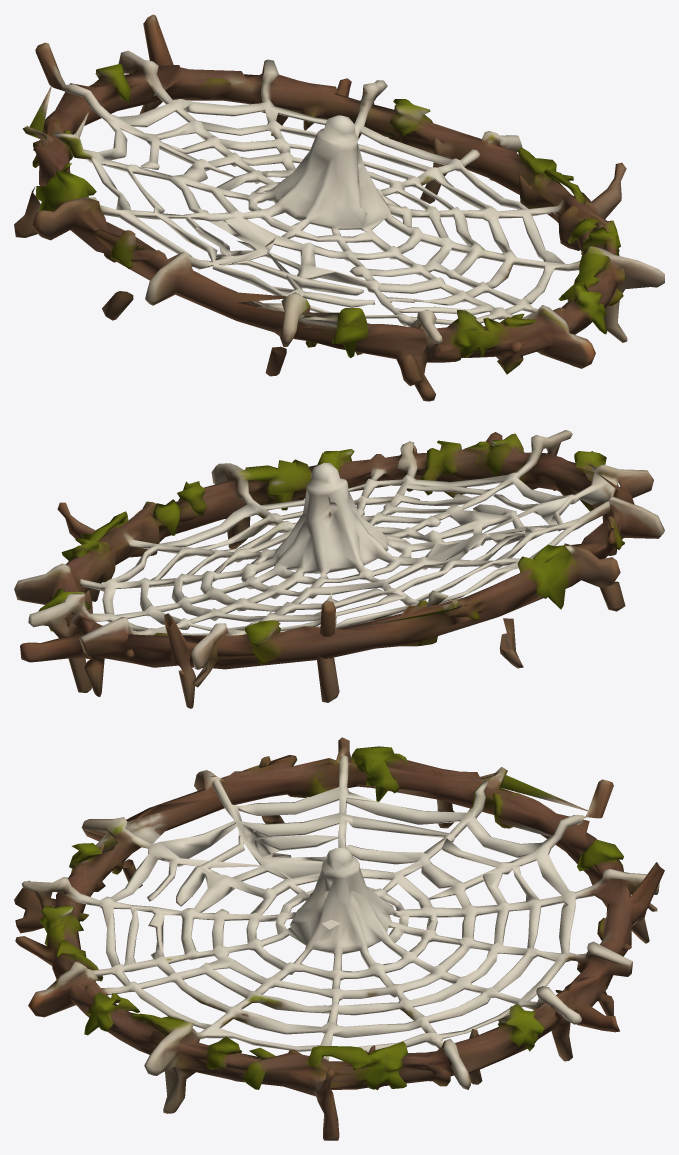
3 views of the same model, one above another, from view 1: azimuth 30°, elevation 25°; view 2: azimuth 150°, elevation 25°; view 3: azimuth 270°, elevation 25° (orthographic). The views are drawn at different scales.
Visible parts, largest first — view 1: tripo_node_af652bb4-c93a-4102-ba9a-af30483a7c5c; view 2: tripo_node_af652bb4-c93a-4102-ba9a-af30483a7c5c; view 3: tripo_node_af652bb4-c93a-4102-ba9a-af30483a7c5c.
Part boxes in pixels (x1,y1,x2,y2): tripo_node_af652bb4-c93a-4102-ba9a-af30483a7c5c: (14,14,664,401); tripo_node_af652bb4-c93a-4102-ba9a-af30483a7c5c: (14,430,664,708); tripo_node_af652bb4-c93a-4102-ba9a-af30483a7c5c: (14,737,664,1140).
Bounding box in the file's own units: 0.9374 × 0.3151 × 0.998.
Materials: 1 (1 with a texture image).
